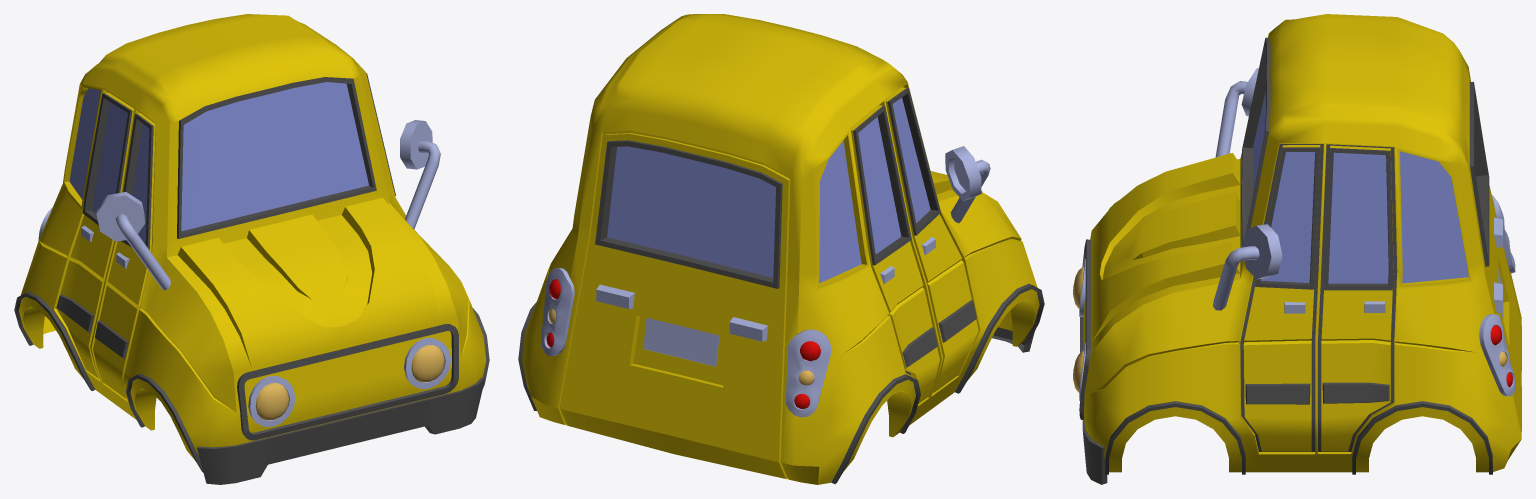
File: Renault4.fbx
The picture shows the model from 3 angles, left to right: view 1: azimuth 30°, elevation 25°; view 2: azimuth 150°, elevation 25°; view 3: azimuth 270°, elevation 25°; orthographic projection. The views are drawn at different scales.
Visible parts, largest first — view 1: Renault 4 Car; view 2: Renault 4 Car; view 3: Renault 4 Car.
Boxes of the visible parts, left/top/right/bottom form: Renault 4 Car: left=14, top=14, right=489, bottom=484; Renault 4 Car: left=518, top=14, right=1044, bottom=484; Renault 4 Car: left=1073, top=14, right=1521, bottom=484.
Bounding box in the file's own units: 246 × 230 × 258.
